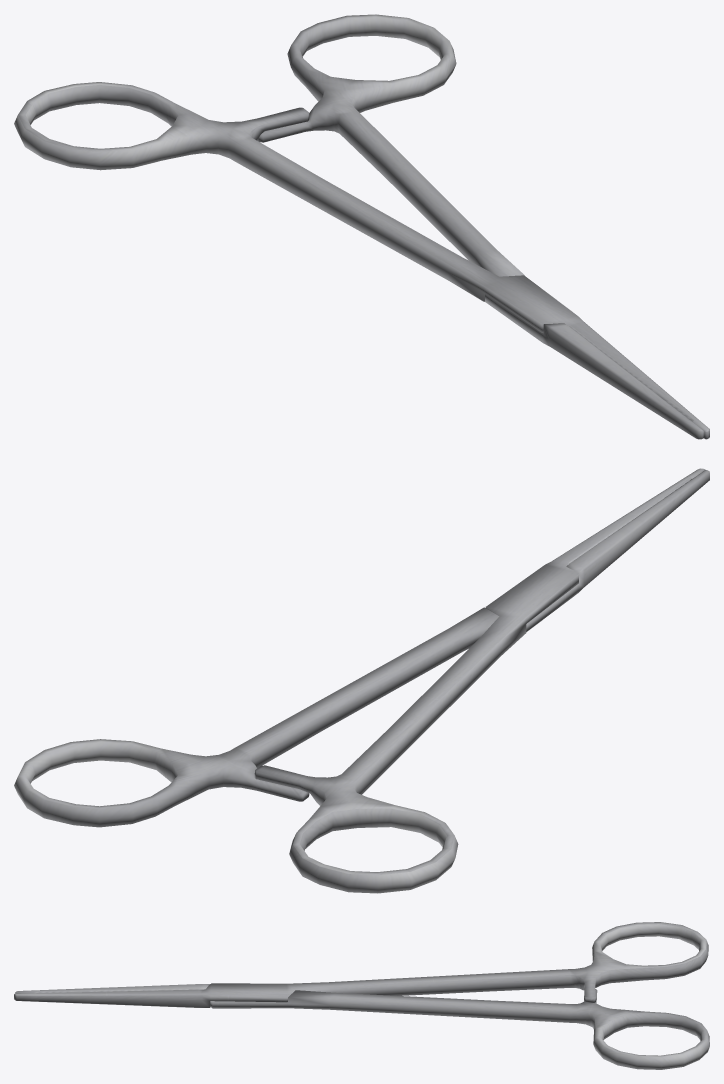
The model's file is surgical_scissor.fbx.
3 renders of one model, top to bottom at view 1: azimuth 30°, elevation 25°; view 2: azimuth 150°, elevation 25°; view 3: azimuth 270°, elevation 25°, orthographic. The views are drawn at different scales.
Visible parts, largest first — view 1: polySurface11, polySurface9; view 2: polySurface9, polySurface11; view 3: polySurface11, polySurface9.
Boxes of the visible parts, x1,y1,x2,y2 form: polySurface11: (14, 82, 709, 439); polySurface9: (257, 14, 703, 439); polySurface9: (14, 470, 709, 827); polySurface11: (254, 468, 705, 893); polySurface11: (14, 922, 708, 1007); polySurface9: (15, 984, 709, 1069).
Bounding box in the file's own units: 0.8485 × 0.041 × 1.8.
1 material, 1 textured.
